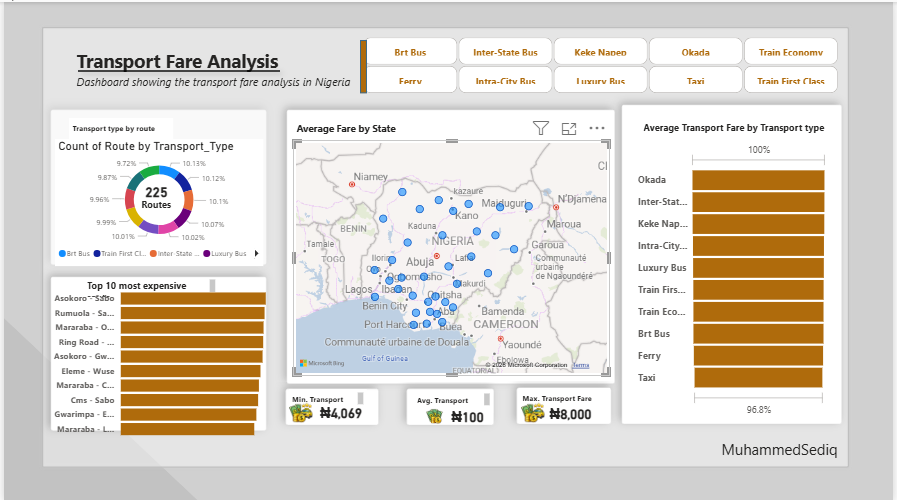

The dashboard page shown, as its layout file describes it:
{"tool":"powerbi","page":{"name":"chart","canvas":[1280,720],"ordinal":0},"visuals":[{"type":"card","fields":{"Values":["Max(Sheet1.Fare(NGN))"]},"box":[282.2,33.6,178.1,73.9],"z":0},{"type":"card","fields":{"Values":["Avg(Sheet1.Fare(NGN))"]},"box":[79,31.9,216.7,80.6],"z":1000},{"type":"card","fields":{"Values":["Min(Sheet1.Fare(NGN))"]},"box":[477.1,31.9,162.9,80.6],"z":2000},{"type":"card","fields":{"Values":["Count(Sheet1.Route)"]},"box":[656.8,33.6,194.9,73.9],"z":3000},{"type":"map","fields":{"Category":["Sheet1.State"],"Size":["Avg(Sheet1.Fare(NGN))"]},"box":[79,213.3,305.7,215],"z":4000},{"type":"funnel","fields":{"Category":["Sheet1.Transport_Type"],"Y":["Avg(Sheet1.Fare(NGN))"]},"box":[448.5,201.6,341,290.6],"z":5000},{"type":"clusteredBarChart","fields":{"Category":["Sheet1.Route"],"Y":["Sheet1.average Fare"]},"box":[799.6,201.6,341,320.8],"z":6000},{"type":"donutChart","fields":{"Y":["CountNonNull(Sheet1.Route)"],"Category":["Sheet1.Transport_Type"]},"box":[79,515.7,398.1,204.9],"z":7000}]}

Visuals, with their boxes in screenshot pixels (x1, y1, x2, y2), scaled from the page's 1280x720 canvas onto the 897x500 screenshot:
card - Max(Sheet1.Fare(NGN)): select_region(198, 23, 323, 75)
card - Avg(Sheet1.Fare(NGN)): select_region(55, 22, 207, 78)
card - Min(Sheet1.Fare(NGN)): select_region(334, 22, 448, 78)
card - Count(Sheet1.Route): select_region(460, 23, 597, 75)
map - Sheet1.State x Avg(Sheet1.Fare(NGN)): select_region(55, 148, 270, 297)
funnel - Sheet1.Transport_Type x Avg(Sheet1.Fare(NGN)): select_region(314, 140, 553, 342)
clusteredBarChart - Sheet1.Route x Sheet1.average Fare: select_region(560, 140, 799, 363)
donutChart - CountNonNull(Sheet1.Route) x Sheet1.Transport_Type: select_region(55, 358, 334, 499)
